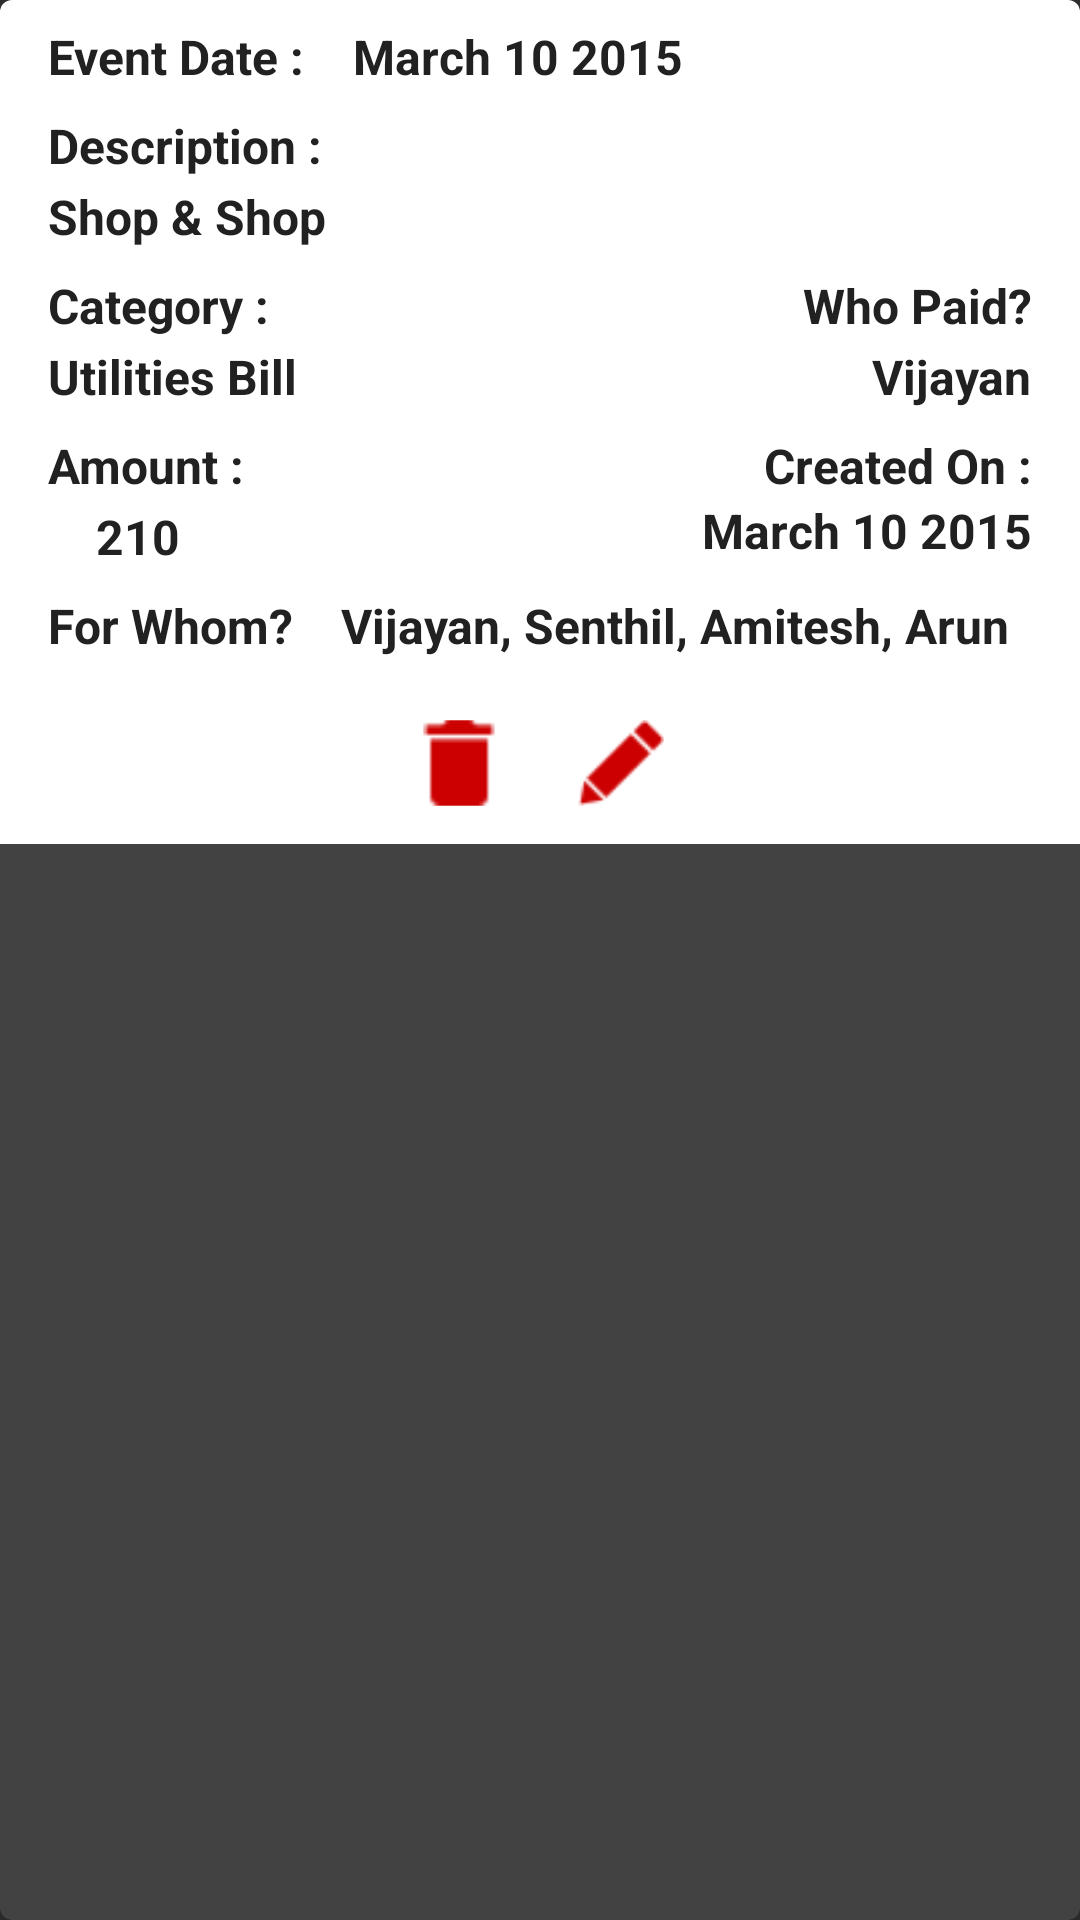

Where icons sit on this 1080*1920 app screen, as [x1,y1,x2,y2]:
delete: [423,720,495,806]
edit account details: [579,720,664,806]
